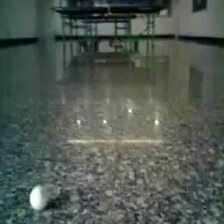w: (28, 185, 50, 211)
